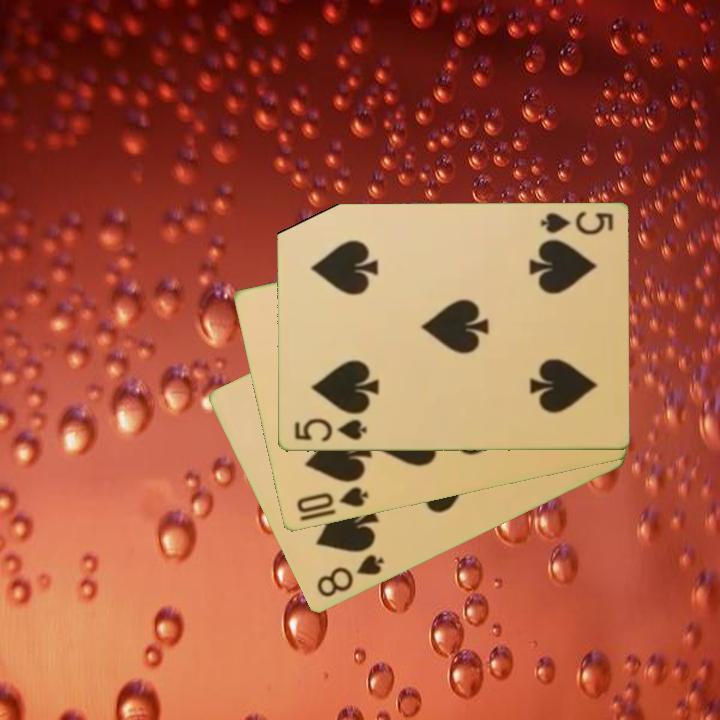10s: (293, 483, 371, 517)
5s: (290, 415, 369, 445), (536, 209, 615, 238)
8s: (313, 551, 387, 601)
